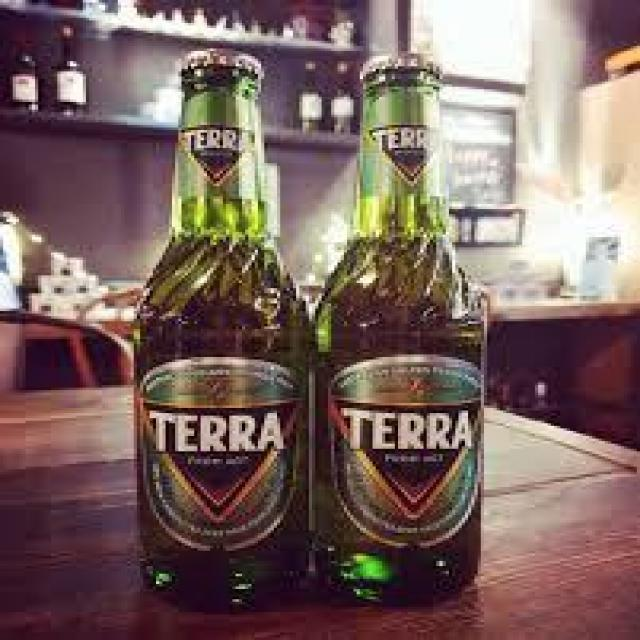beer-bottle: (286, 41, 504, 620), (119, 44, 314, 607)
